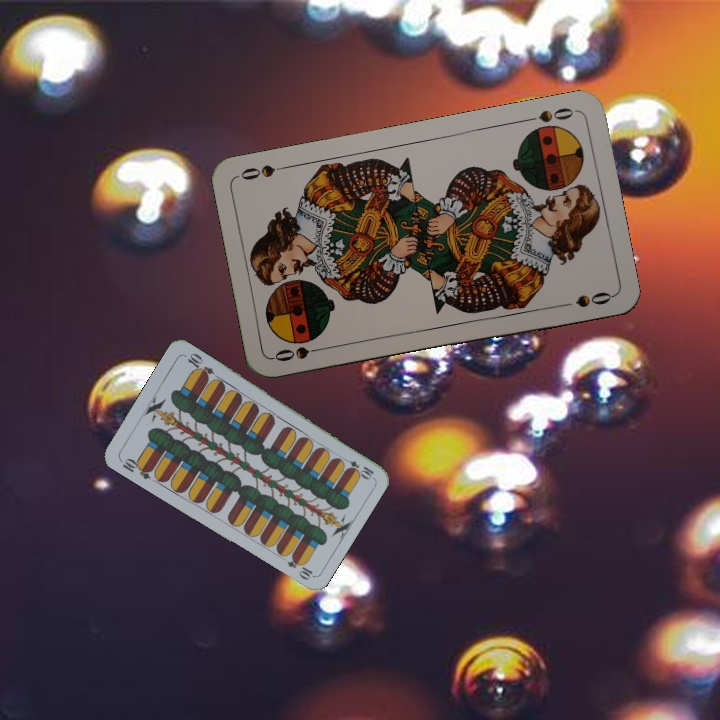E10: (116, 454, 155, 482), (338, 453, 376, 481)
SO: (270, 342, 329, 365), (520, 103, 579, 125)
